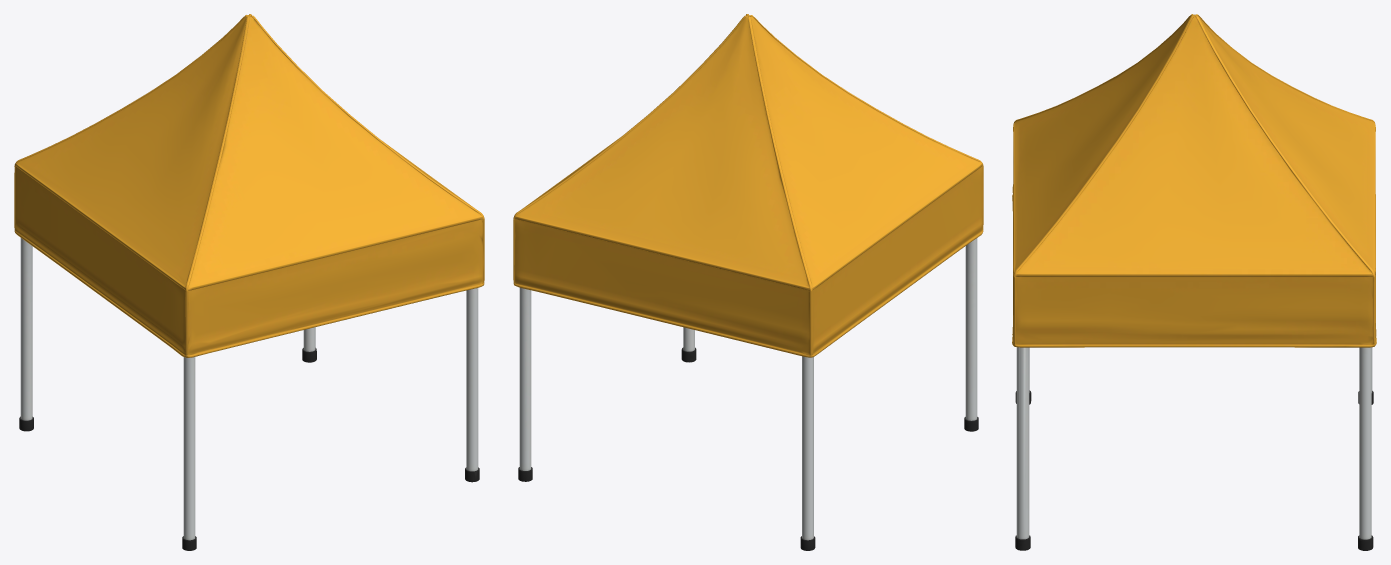
Rendered from Tent_5_5.glb.
3 views of the same model, side by side, from view 1: azimuth 30°, elevation 25°; view 2: azimuth 150°, elevation 25°; view 3: azimuth 270°, elevation 25° (orthographic). The views are drawn at different scales.
Visible parts, largest first — view 1: fabric, leg5; view 2: fabric, leg5; view 3: fabric, leg5.
Boxes of the visible parts, bbox=[...] form: fabric: bbox=[14, 14, 484, 357]; leg5: bbox=[19, 238, 479, 550]; fabric: bbox=[513, 14, 983, 357]; leg5: bbox=[518, 238, 978, 550]; fabric: bbox=[1012, 14, 1376, 347]; leg5: bbox=[1015, 347, 1373, 550].
Size of the model in its own units: 1.53 by 2.13 by 1.53.
3 materials, 2 textured.
